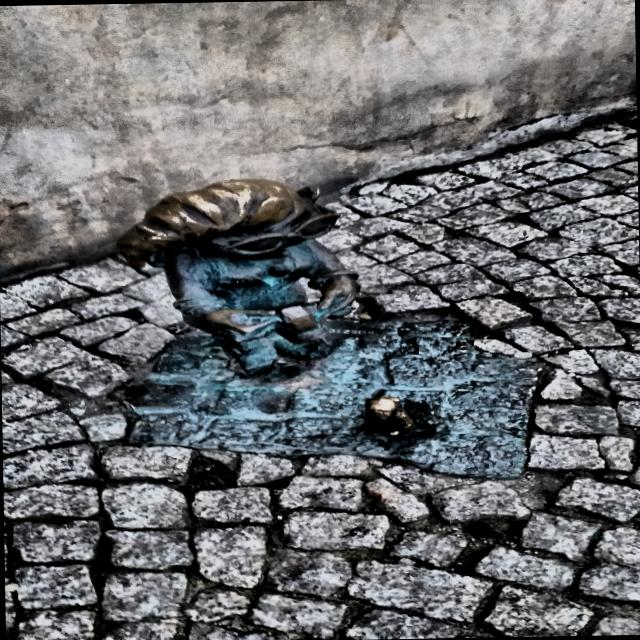Troszka i Adoratorek: (116, 179, 537, 481)
